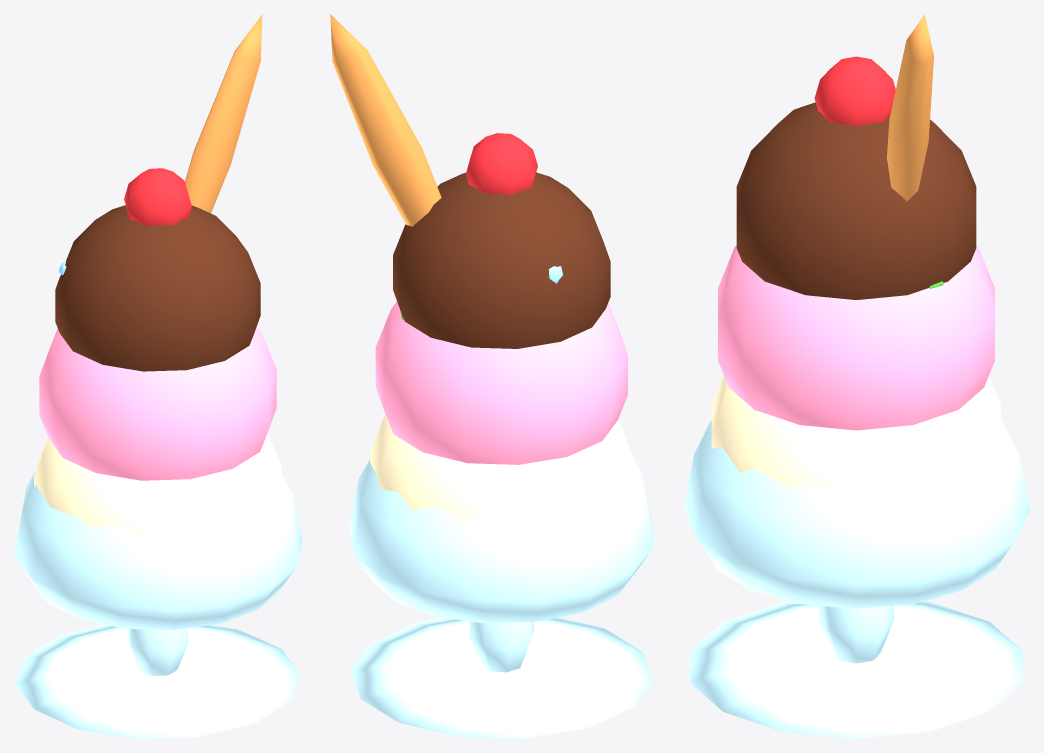
Rendered from sundae.glb.
3 renders of one model, left to right at view 1: azimuth 30°, elevation 25°; view 2: azimuth 150°, elevation 25°; view 3: azimuth 270°, elevation 25°, orthographic. The views are drawn at different scales.
Parts seen in each view (by area): view 1: item; view 2: item; view 3: item.
Part boxes in pixels (x1,y1,x2,y2): item: (14, 14, 301, 738); item: (330, 14, 654, 738); item: (683, 14, 1029, 738).
Bounding box in the file's own units: 0.2717 × 0.6261 × 0.2641.
1 material, 1 textured.
